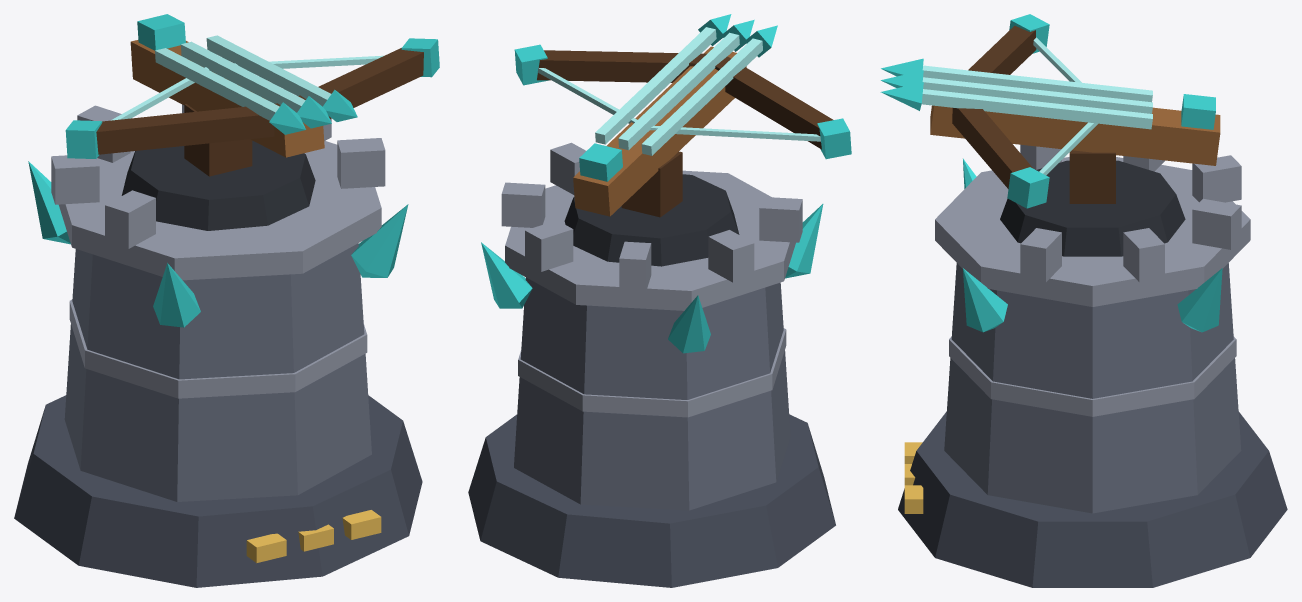
The model's file is ballista-2.glb.
The picture shows the model from 3 angles, left to right: view 1: azimuth 30°, elevation 25°; view 2: azimuth 150°, elevation 25°; view 3: azimuth 270°, elevation 25°; orthographic projection. The views are drawn at different scales.
Visible parts, largest first — view 1: ballista-2; view 2: ballista-2; view 3: ballista-2.
Boxes of the visible parts, bbox=[...] form: ballista-2: bbox=[14, 14, 439, 587]; ballista-2: bbox=[468, 14, 851, 587]; ballista-2: bbox=[880, 14, 1287, 587].
Bounding box in the file's own units: 0.8649 × 1.04 × 0.8776.
1 material, 1 textured.
